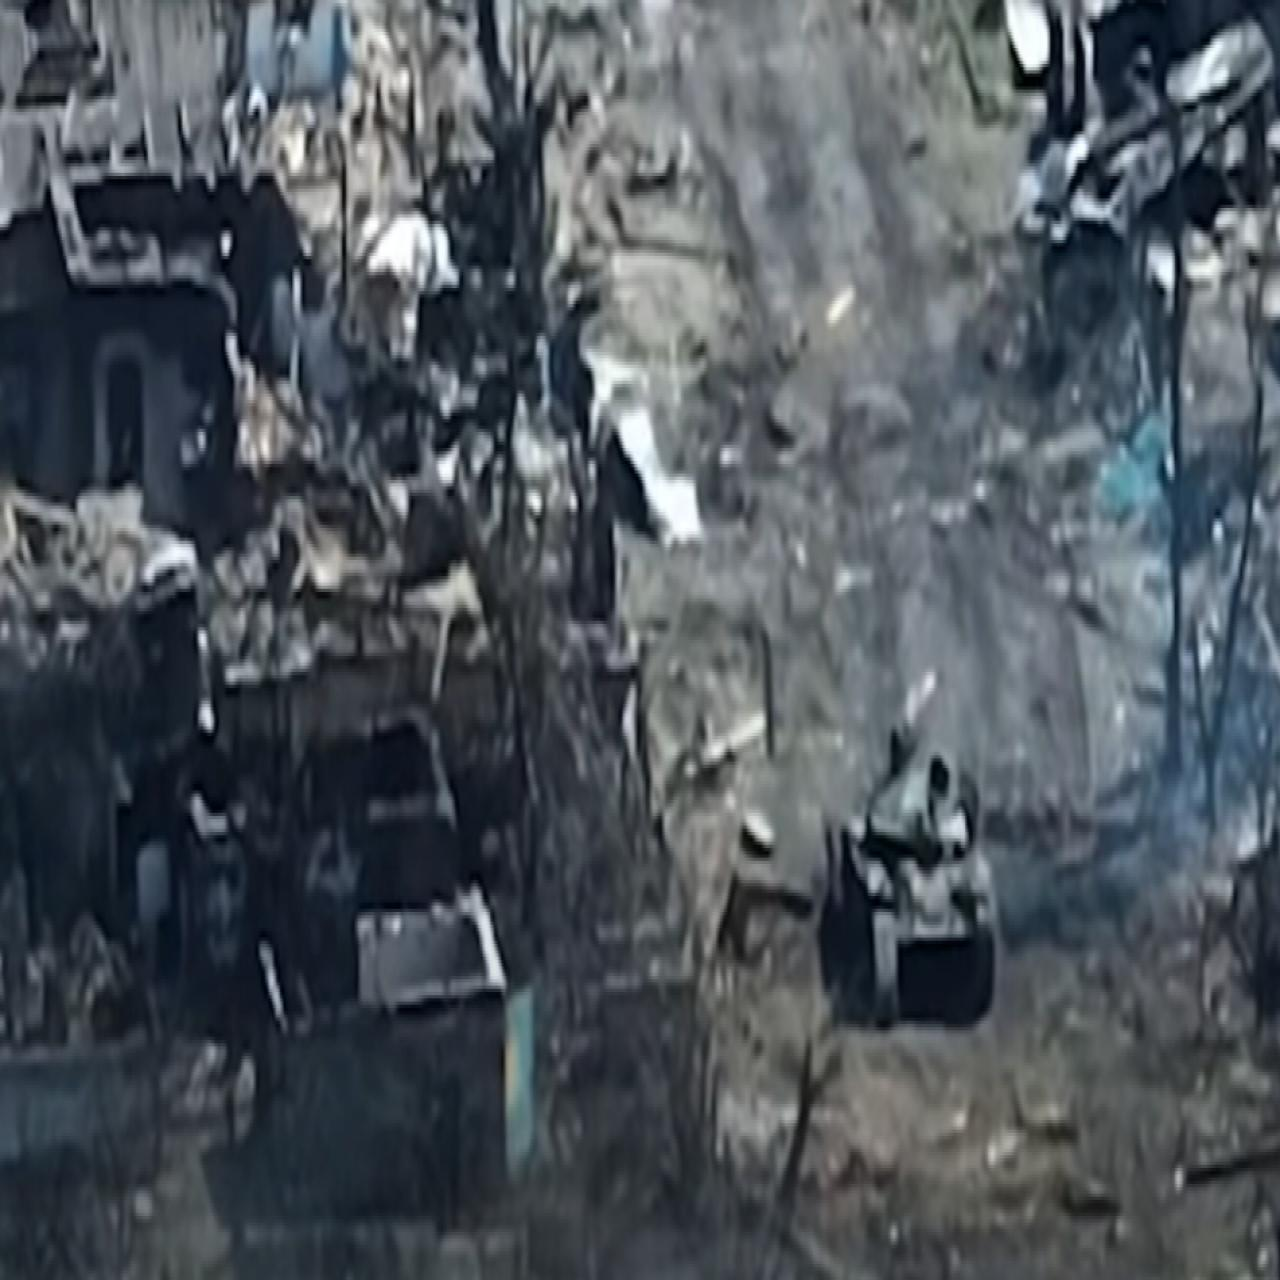MIL_Veh: (822, 722, 999, 1022)
